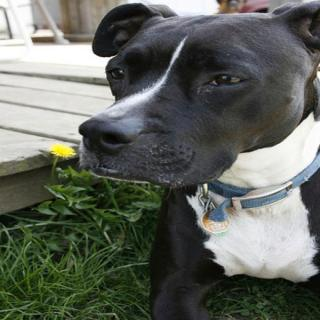dog: (74, 8, 320, 193)
nose: (77, 115, 138, 156)
